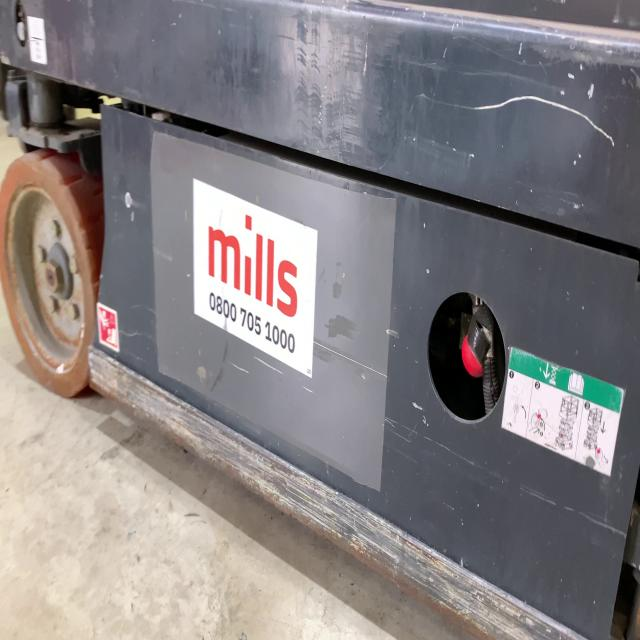Adesivos: (191, 174, 319, 383)
